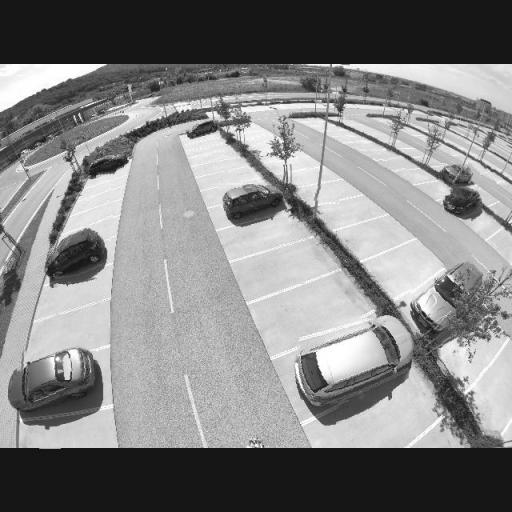busy: (292, 312, 414, 412), (410, 262, 491, 330), (16, 345, 102, 409), (52, 230, 104, 279), (220, 181, 286, 219), (440, 186, 483, 214), (84, 154, 130, 174), (439, 164, 473, 186), (188, 120, 220, 139)
free: (336, 400, 411, 446), (441, 330, 495, 376), (39, 418, 105, 448), (52, 315, 102, 351), (285, 294, 342, 325), (53, 273, 104, 301), (262, 255, 309, 283), (388, 252, 431, 278), (241, 224, 285, 246), (304, 183, 342, 204), (357, 226, 395, 244), (334, 202, 367, 220), (290, 170, 322, 186), (378, 156, 406, 174), (471, 214, 497, 231), (276, 157, 306, 171), (83, 226, 112, 240), (217, 174, 244, 188), (82, 210, 113, 222), (256, 147, 278, 163), (428, 183, 450, 198), (368, 148, 390, 162), (97, 166, 116, 182), (467, 161, 487, 175), (86, 194, 109, 206), (208, 160, 232, 171), (353, 140, 375, 152), (407, 172, 430, 183), (200, 152, 224, 162), (484, 171, 502, 184), (248, 135, 267, 147), (249, 144, 268, 155), (92, 183, 112, 193), (195, 146, 219, 154), (337, 133, 357, 142)
